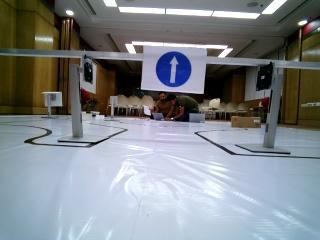straight: (145, 49, 205, 95)
